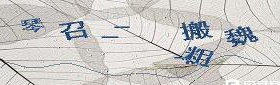chinese: (225, 23, 262, 52), (62, 20, 92, 47), (179, 47, 211, 71), (176, 19, 212, 40), (20, 14, 44, 34)
